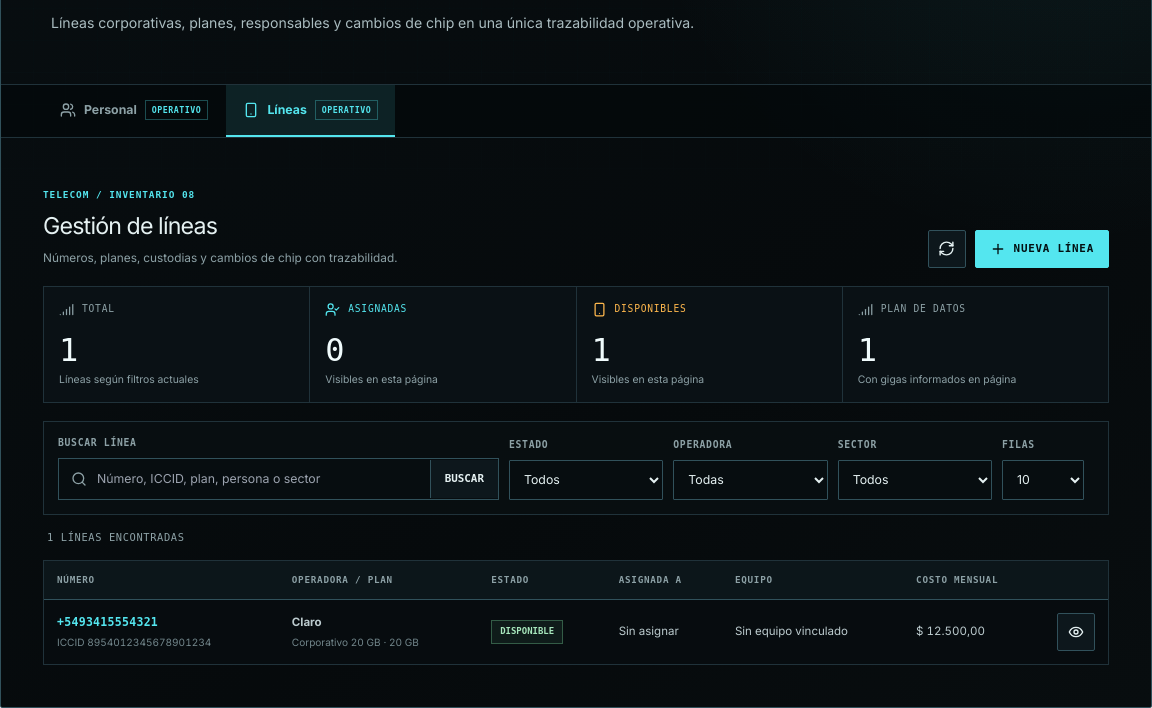
Test case: ItStaffPage › para un sector ofrece su celular y no el de una persona u otro sector
This screenshot has width=1152, height=708.
(page scrolled)
Click the button named "Ver línea +5493415554321" at (1076, 632), box [1057,613,1095,651]
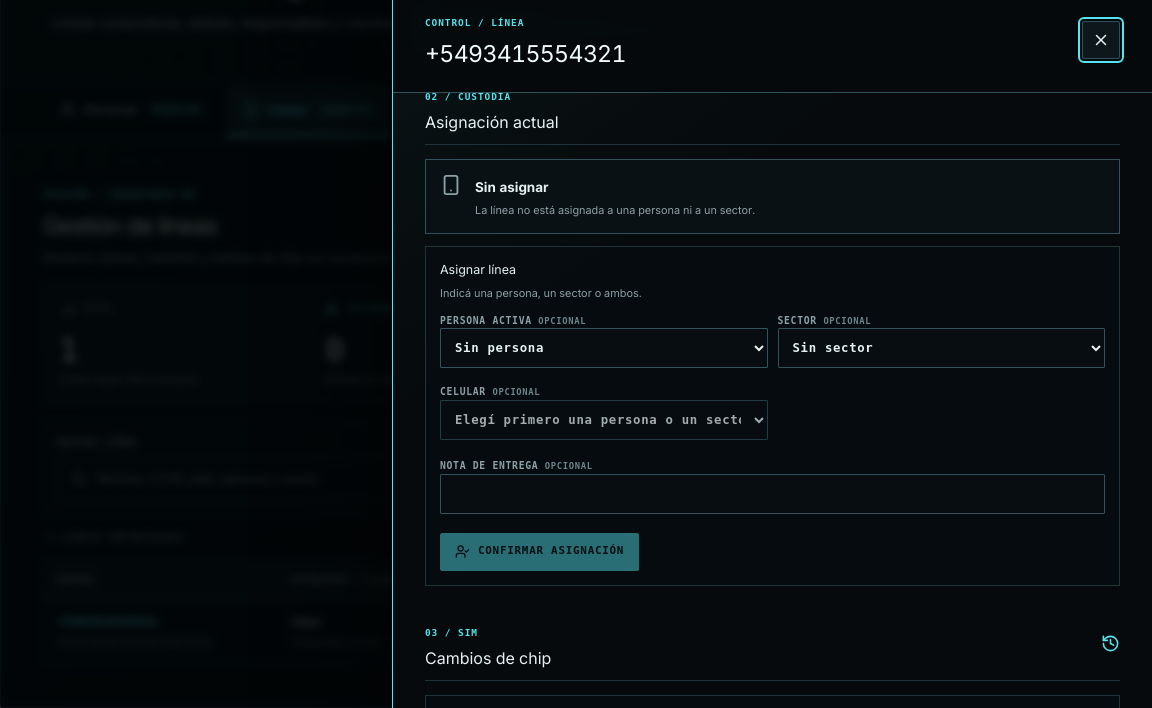
Now the dropdown labelled "Celular Opcional" is disabled, box [440,400,768,440]
Select "Tecnología" in the dropdown labelled "Sector Opcional" at (941, 348), box [778,328,1105,368]
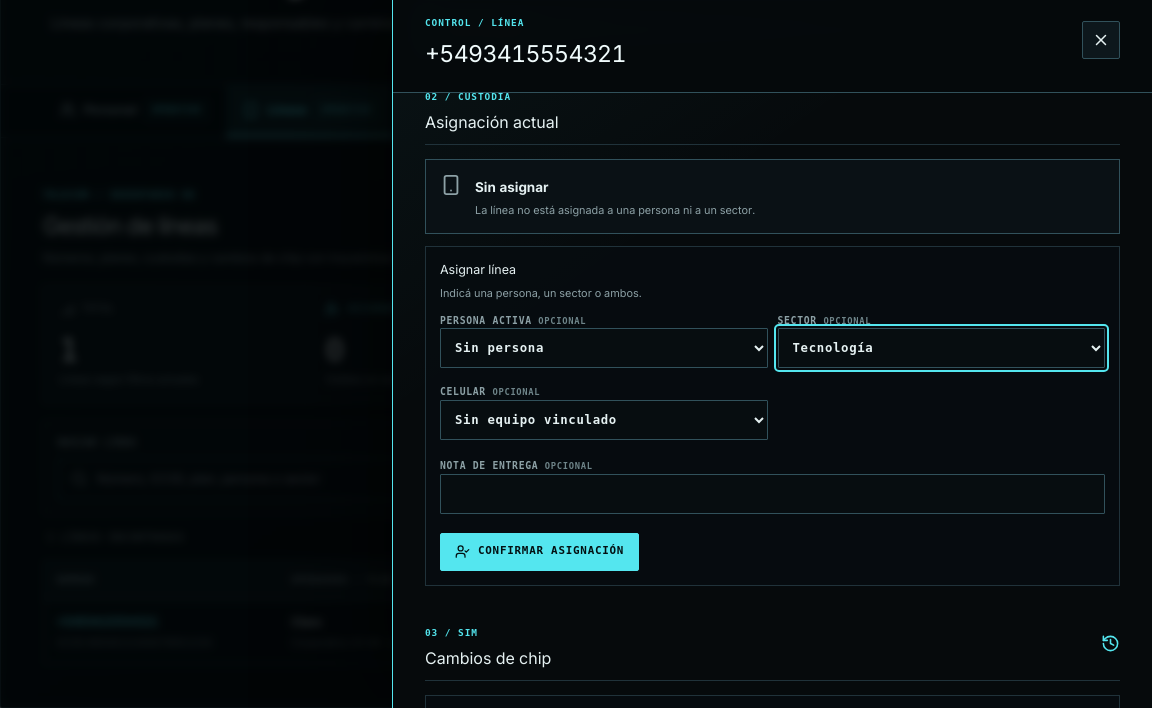
Now the dropdown labelled "Celular Opcional" is enabled, box [440,400,768,440]
